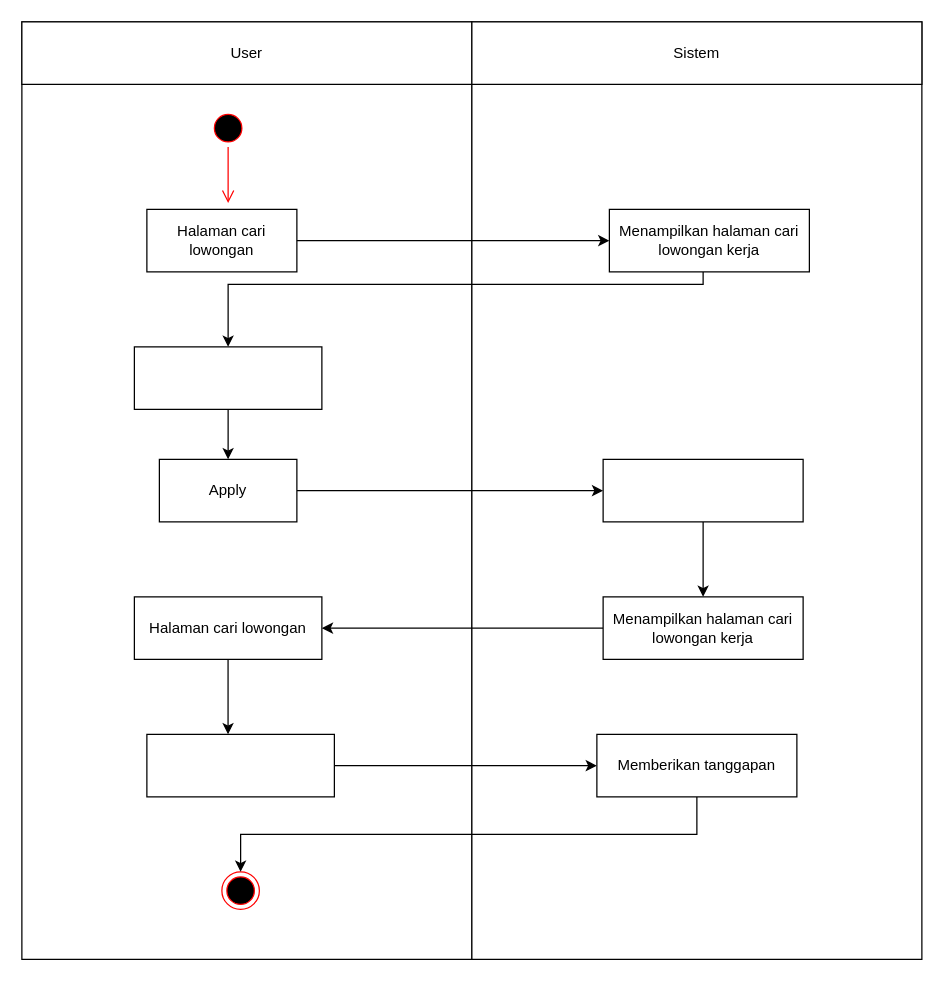
Image size: 944x981. Some labels were removed from this diagram. The centre of each missing label's shape, as x and y in pixels:
"Melihat detail lowongan kerja" goes at (227,377).
"Melihat Status Approved/Reject" goes at (240,765).
"Menyimpan Data" goes at (702,490).
